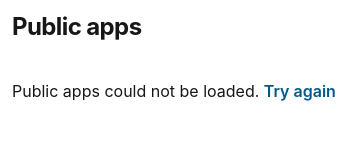
allows retry after a failed lookup
Click the button "Try again" at (300, 91), box [264,79,336,103]
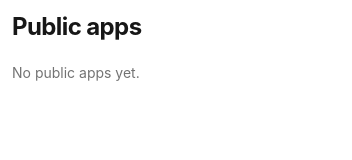
Result: the text "No public apps yet." is shown at [12,64,140,81]
